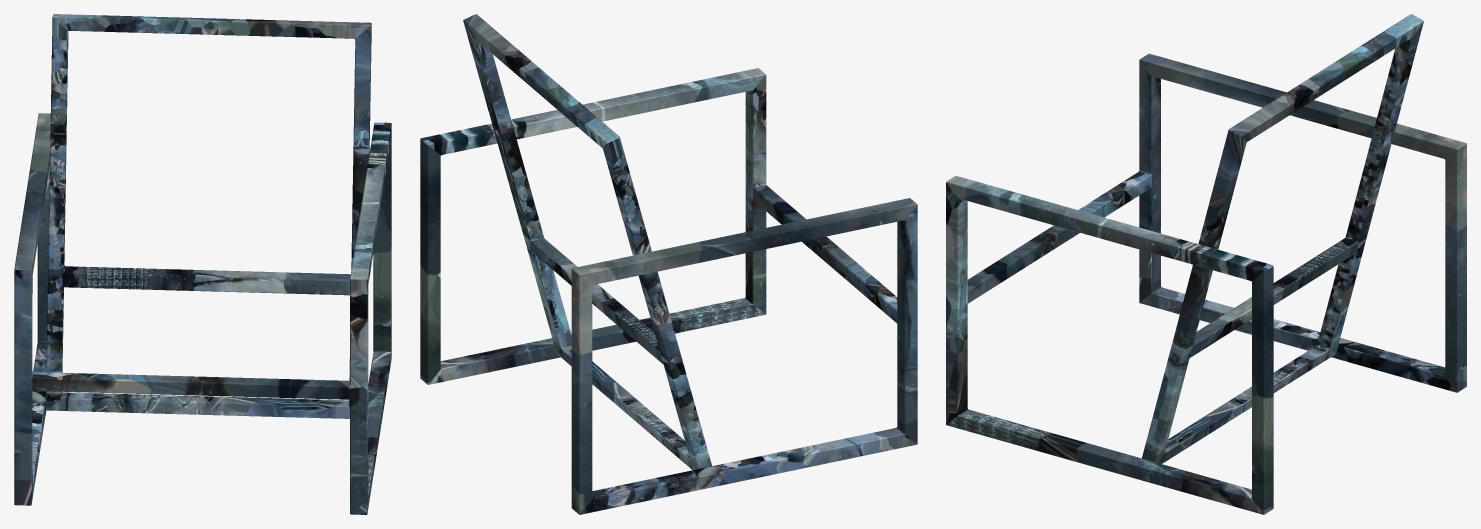
The model's file is futuristic_room_18.obj.
3 views of the same model, side by side, from view 1: azimuth 30°, elevation 25°; view 2: azimuth 150°, elevation 25°; view 3: azimuth 270°, elevation 25° (orthographic). The views are drawn at different scales.
Bounding box in the file's own units: 1.1 × 0.8631 × 1.11.
